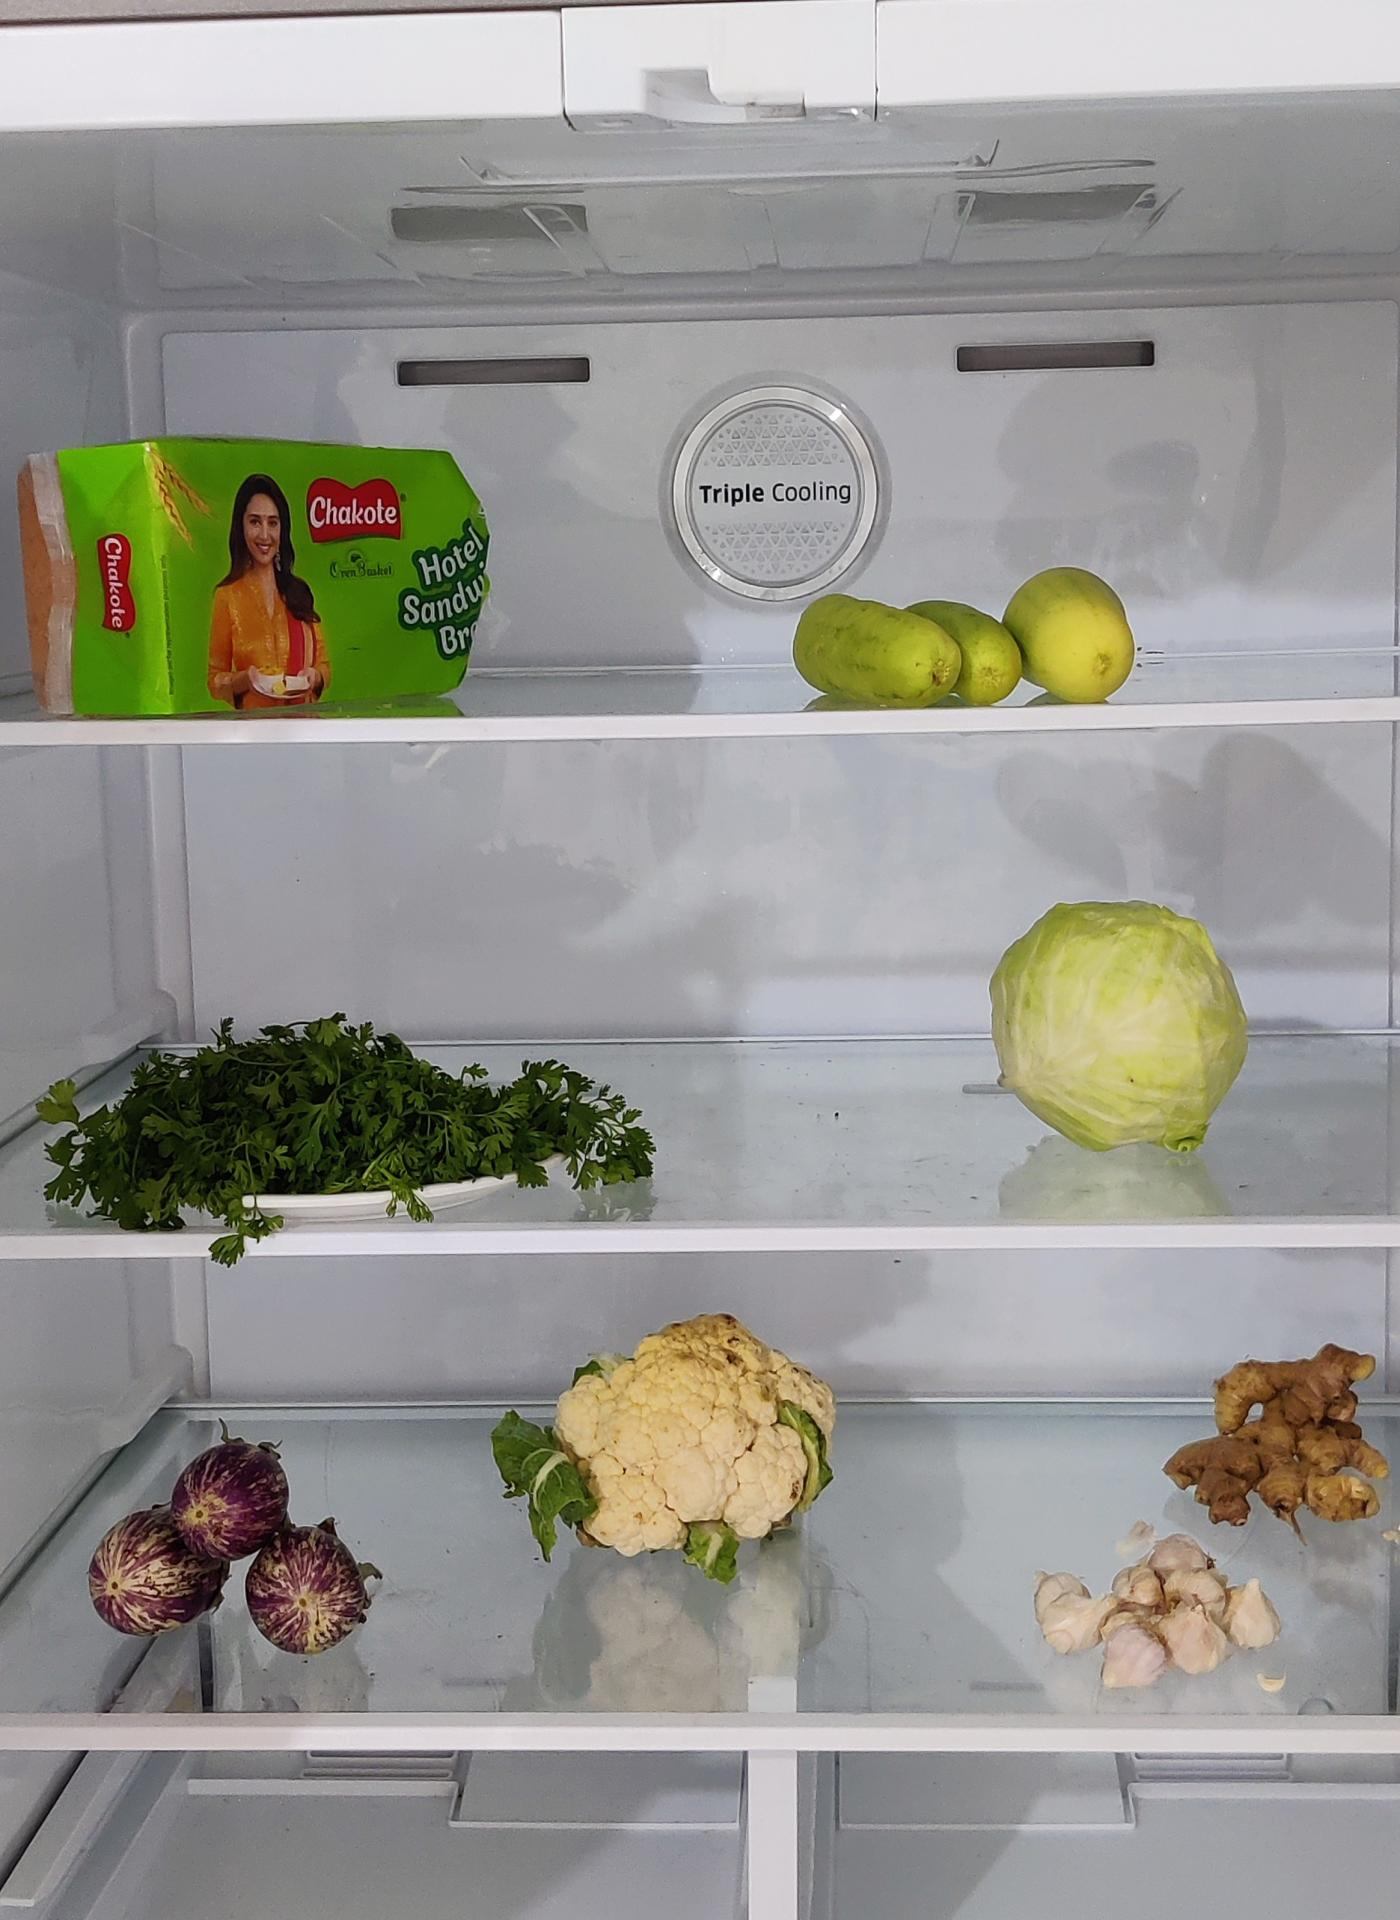bread: (19, 429, 502, 714)
brinjal: (86, 1443, 370, 1667)
cabbage: (1000, 899, 1248, 1151)
cauliflower: (501, 1313, 838, 1552), (1176, 1310, 1396, 1555), (1042, 1528, 1267, 1696)
coriander: (37, 1017, 643, 1204)
cucumber: (789, 583, 1142, 702)
